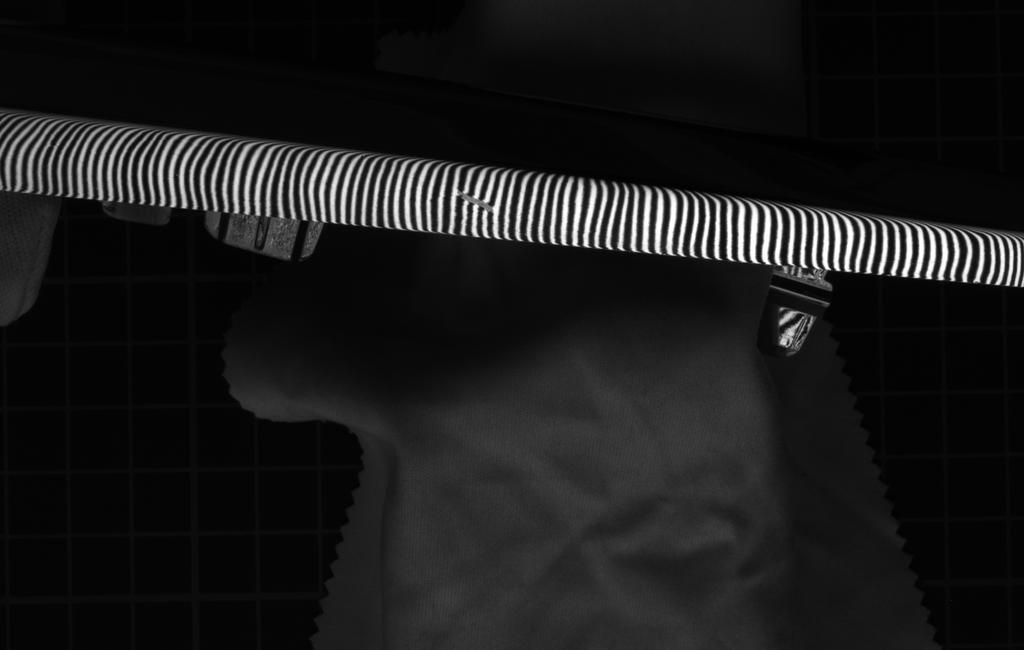Scratch: (448, 185, 505, 221)
